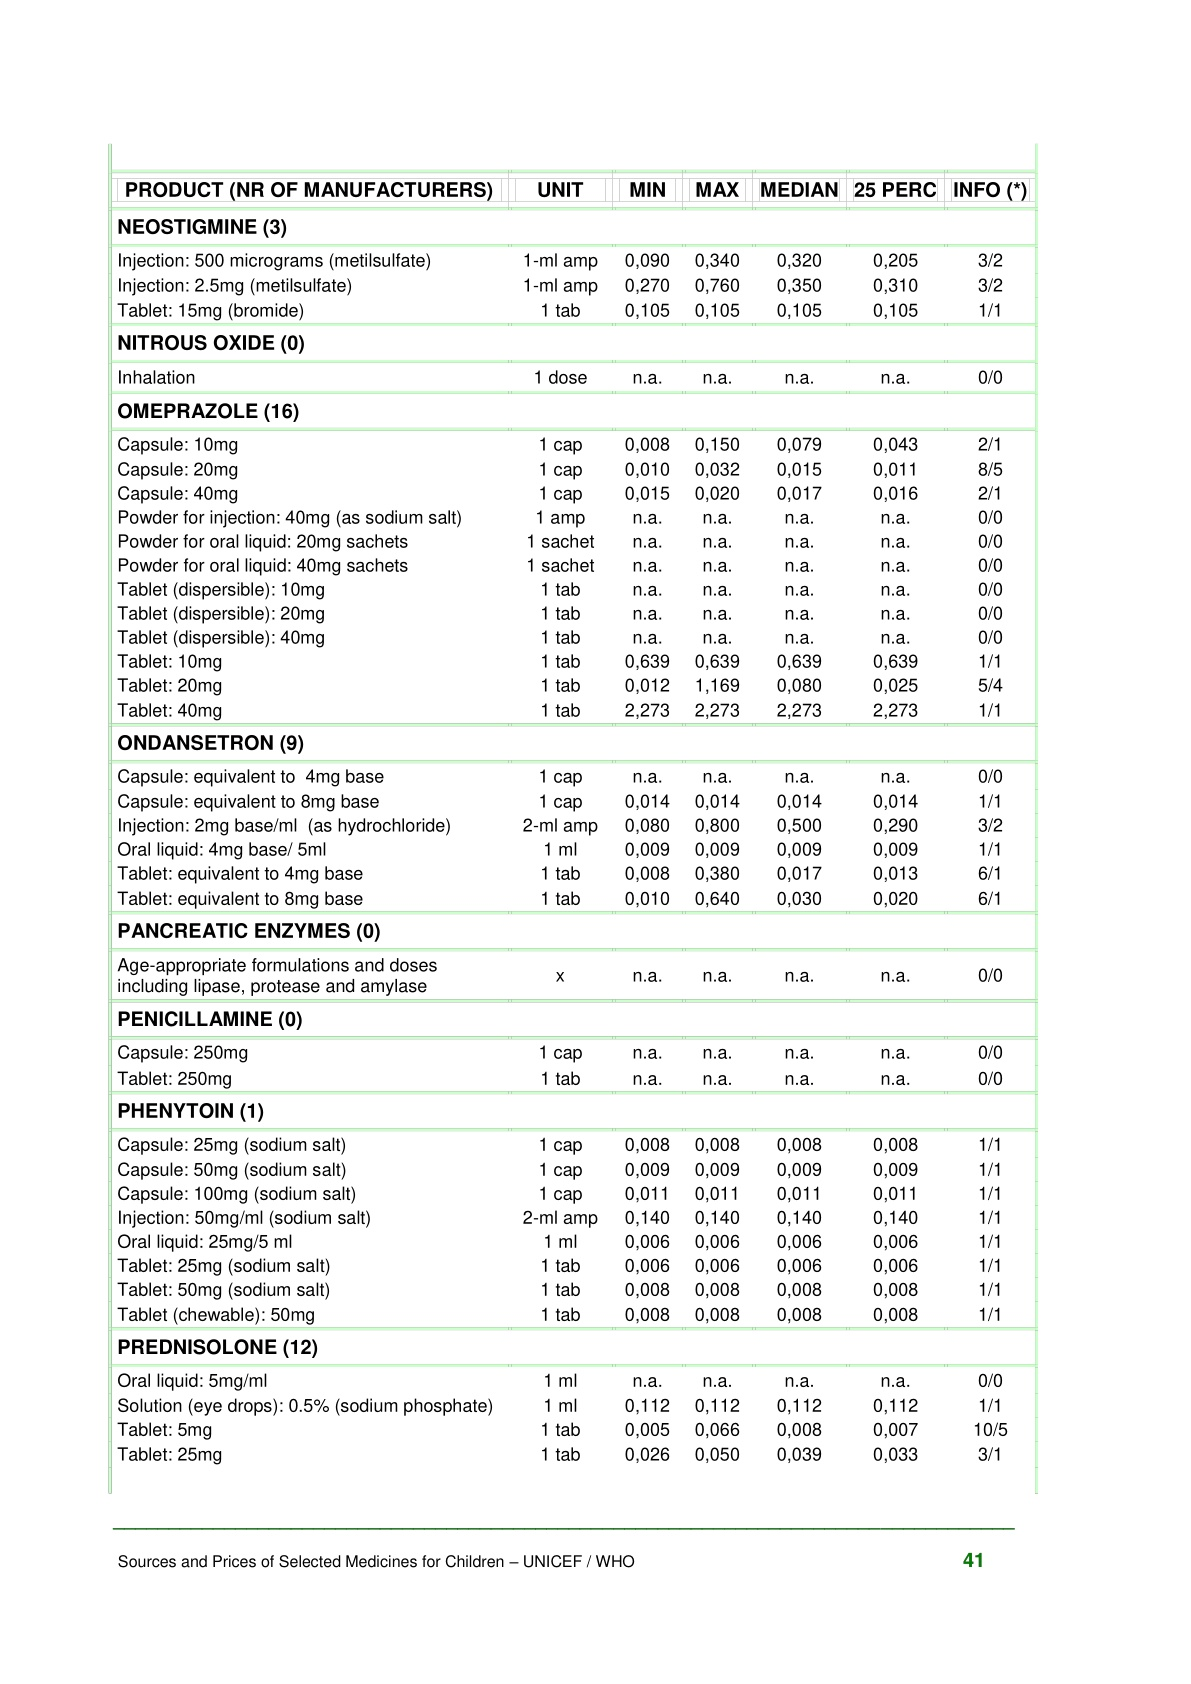partial_lined_merged_cells: (108, 171, 1038, 1496)
